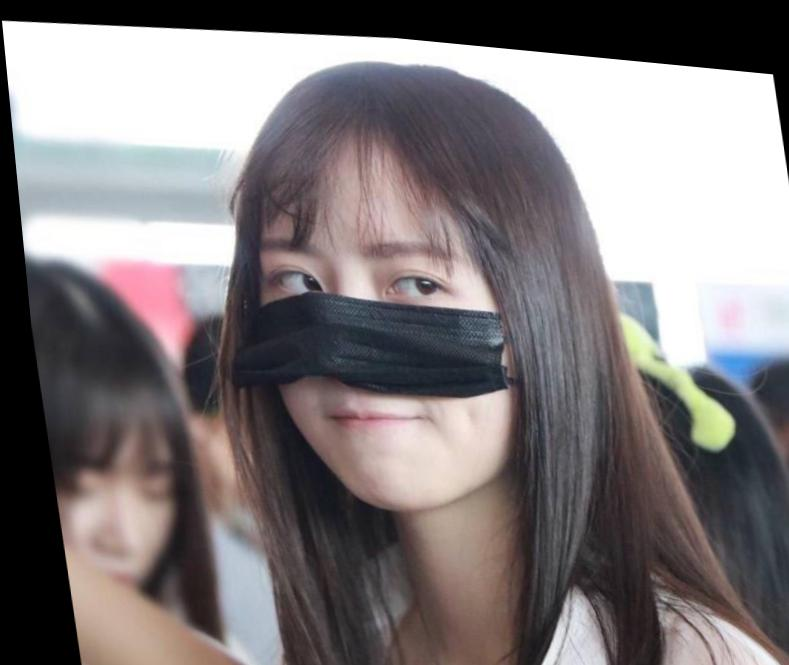NONE: (36, 415, 193, 633)
WRONG: (231, 155, 541, 525)
